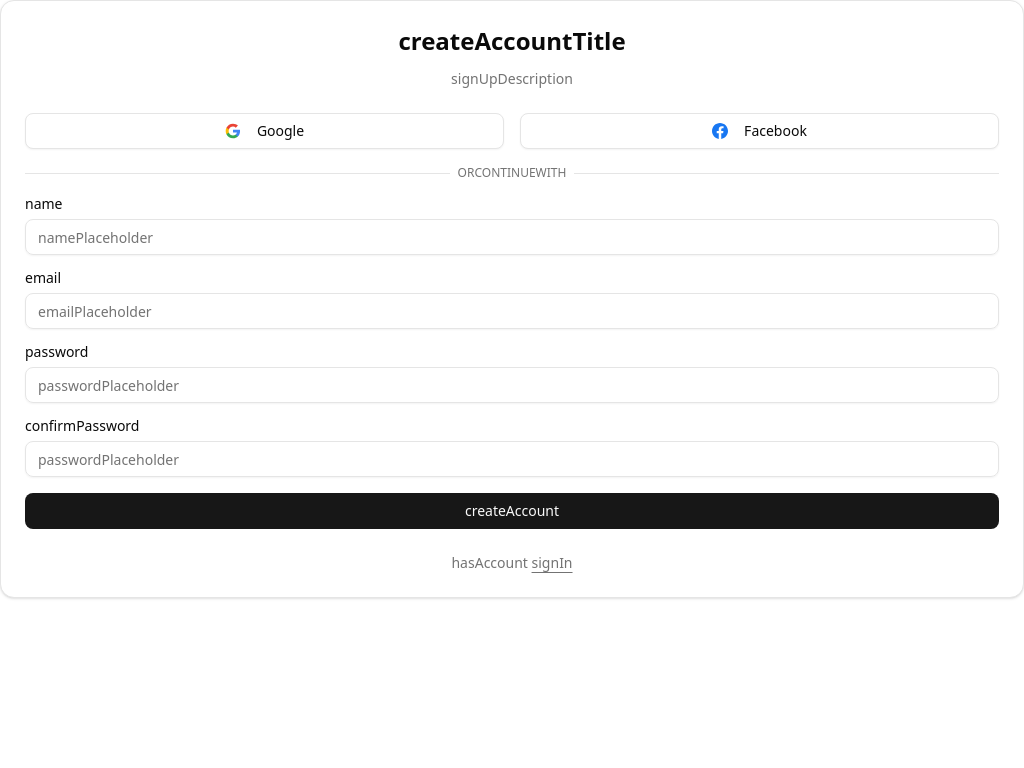
Scenario: SignUpPage › Successful Sign-Up › redirects to sign-in when signup succeeds but auto-login fails
Step 1. Type "Test User" into the field with test id "name-input" → (512, 237), box [25, 219, 999, 255]
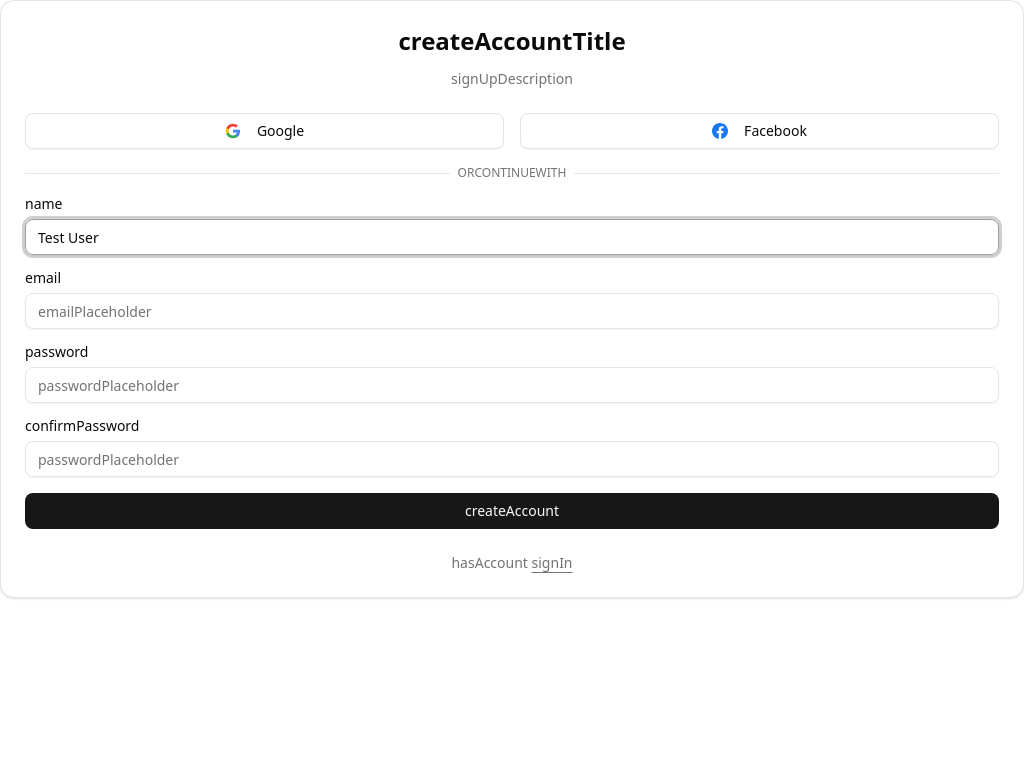
Step 2. Type "test@example.com" into the field with test id "email-input" → (512, 311), box [25, 293, 999, 329]
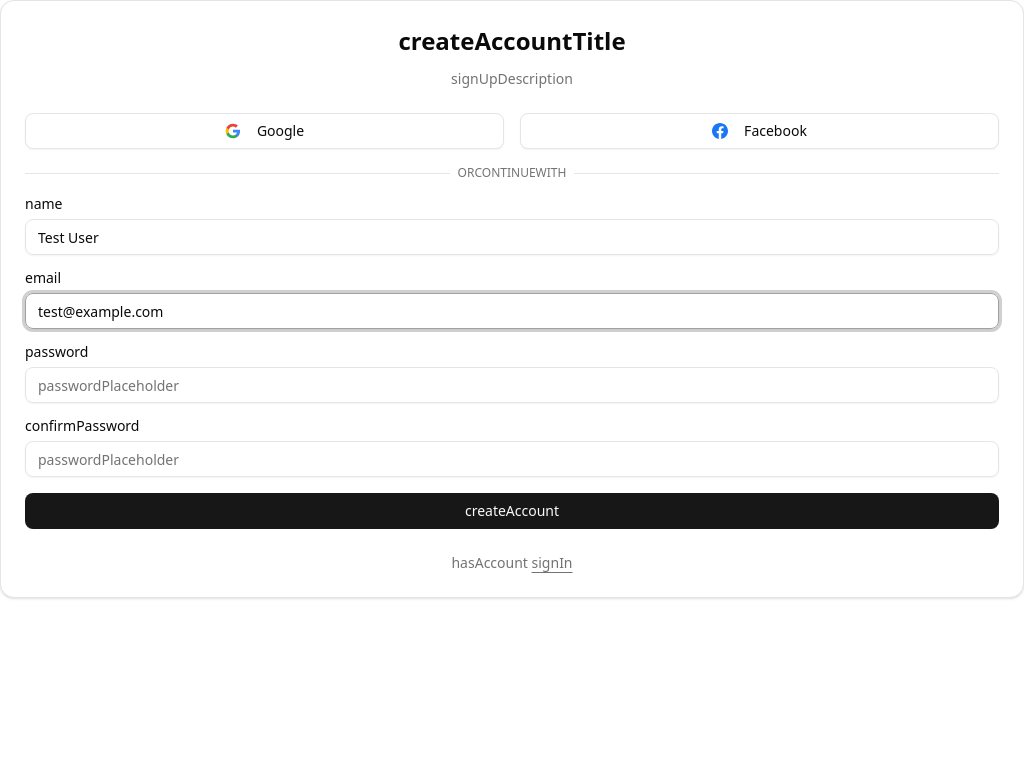
Step 3. Type "password123" into the password field with test id "password-input" → (512, 385), box [25, 367, 999, 403]
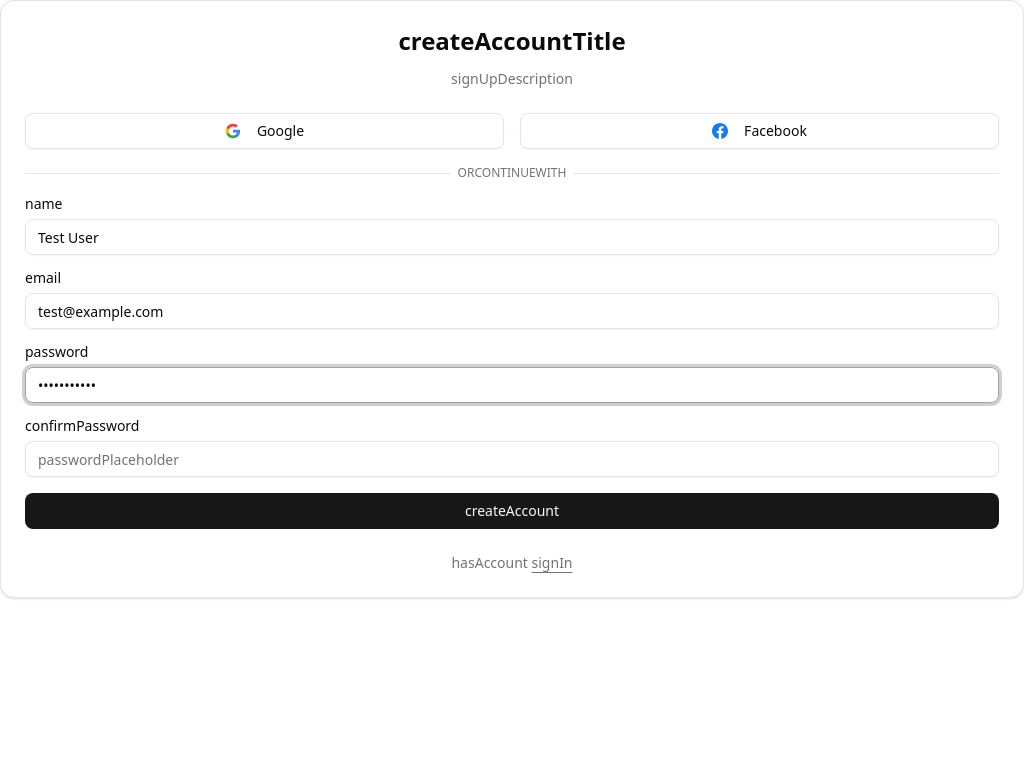
Step 4. Type "password123" into the password field with test id "confirm-password-input" → (512, 459), box [25, 441, 999, 477]
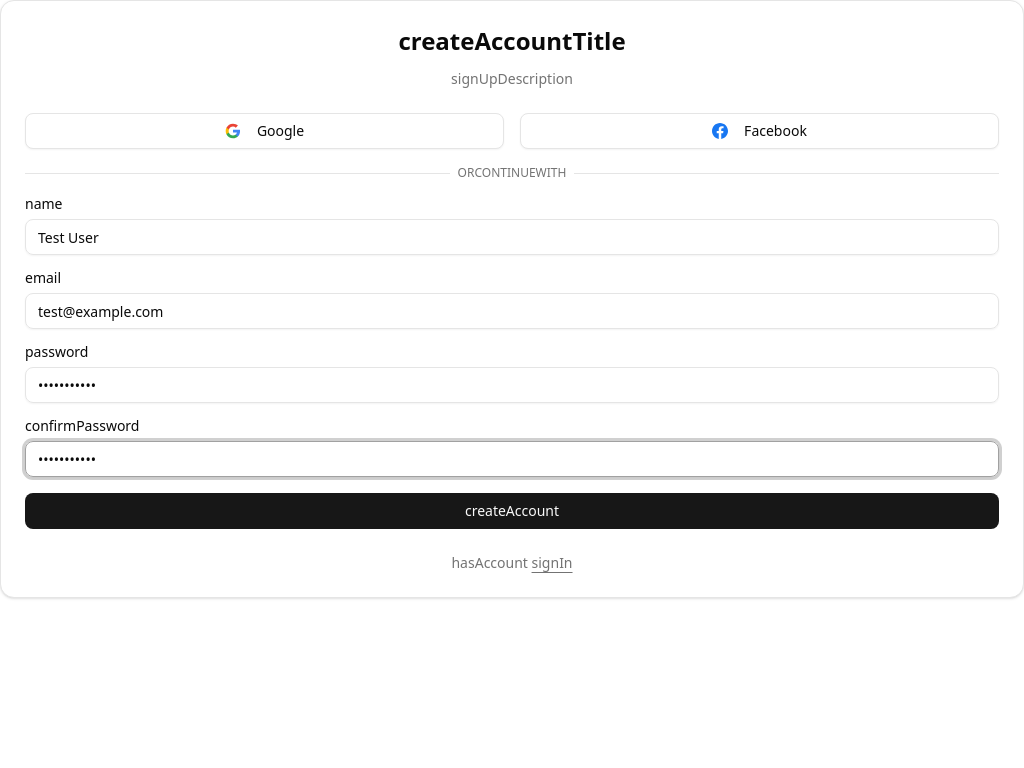
Step 5. Click the button with test id "signup-submit" → (512, 511), box [25, 493, 999, 529]
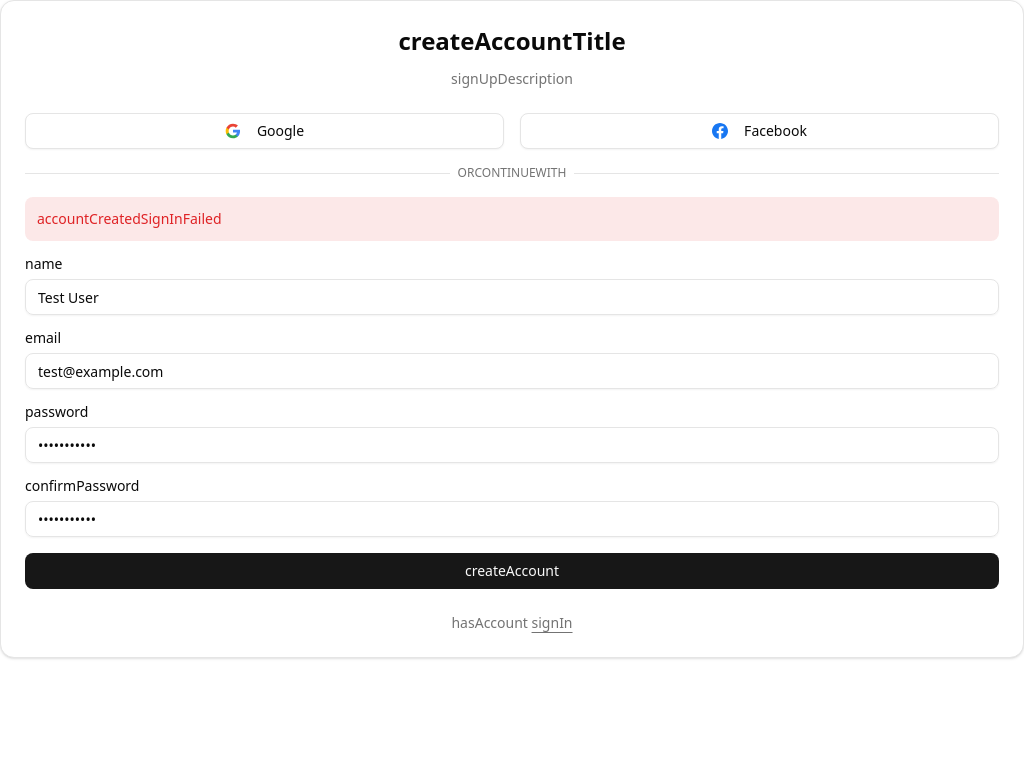
Expected: the text with test id "signup-error" reads "accountCreatedSignInFailed", [37, 209, 222, 228]
